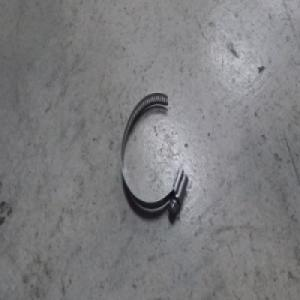AdjustableClamp: (120, 92, 188, 220)
